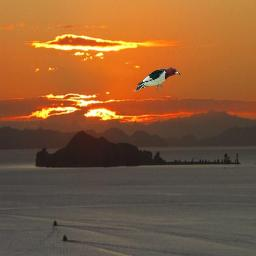Woodpecker: (132, 65, 182, 94)
